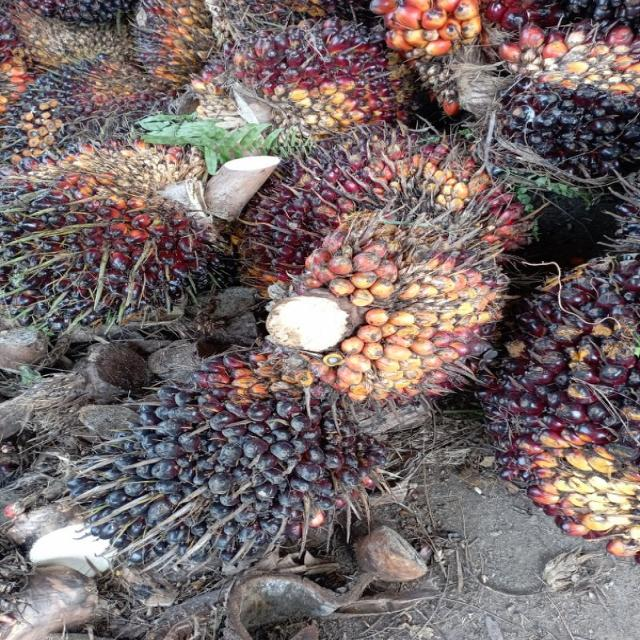fraksi 00: (61, 376, 392, 583), (2, 164, 205, 333), (0, 56, 171, 150)
fraksi 1: (250, 200, 515, 426)
